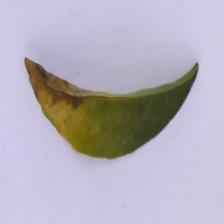greening: (10, 54, 84, 115)
